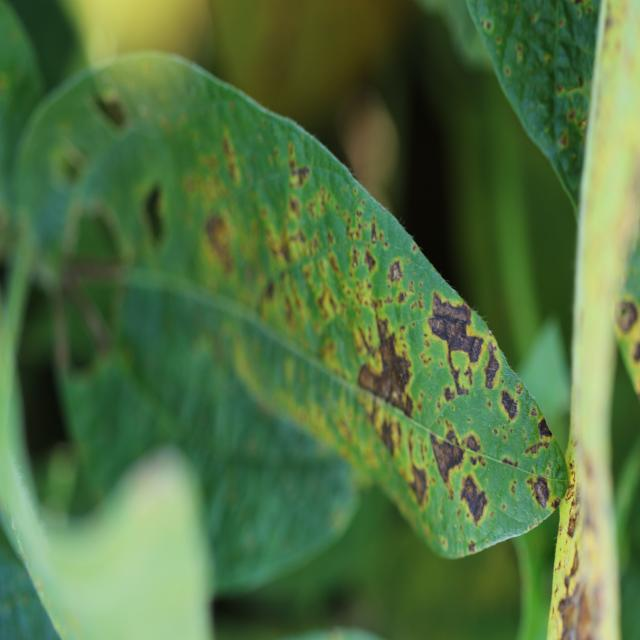Bacterial_Blight: (358, 325, 414, 415), (429, 430, 466, 488), (205, 211, 235, 273), (459, 473, 489, 525), (429, 290, 471, 326), (53, 142, 87, 182), (94, 89, 128, 128), (144, 184, 166, 241), (379, 413, 406, 458), (304, 185, 333, 226), (221, 132, 241, 182), (408, 461, 429, 505), (315, 284, 339, 321), (389, 255, 409, 296), (449, 347, 472, 382), (483, 349, 501, 390), (358, 363, 380, 395), (353, 324, 374, 356), (531, 476, 551, 508), (500, 389, 519, 422), (429, 315, 451, 341), (289, 163, 311, 188), (467, 336, 485, 364), (524, 438, 551, 456), (375, 313, 391, 343), (491, 425, 511, 445), (537, 415, 553, 439), (280, 239, 294, 264), (287, 195, 301, 219), (328, 253, 342, 277), (363, 248, 376, 272), (464, 434, 481, 452), (262, 279, 275, 302), (443, 386, 456, 402), (501, 457, 518, 468), (371, 220, 379, 243), (351, 249, 359, 268), (551, 497, 560, 510), (421, 352, 430, 365), (356, 209, 363, 224), (468, 540, 476, 553), (510, 480, 517, 494), (530, 407, 538, 418), (440, 537, 447, 548), (487, 330, 494, 338), (534, 517, 540, 526), (558, 524, 563, 534), (486, 400, 492, 408), (501, 503, 507, 511), (353, 187, 358, 196), (493, 428, 498, 435)
Soybean: (0, 4, 578, 640)
